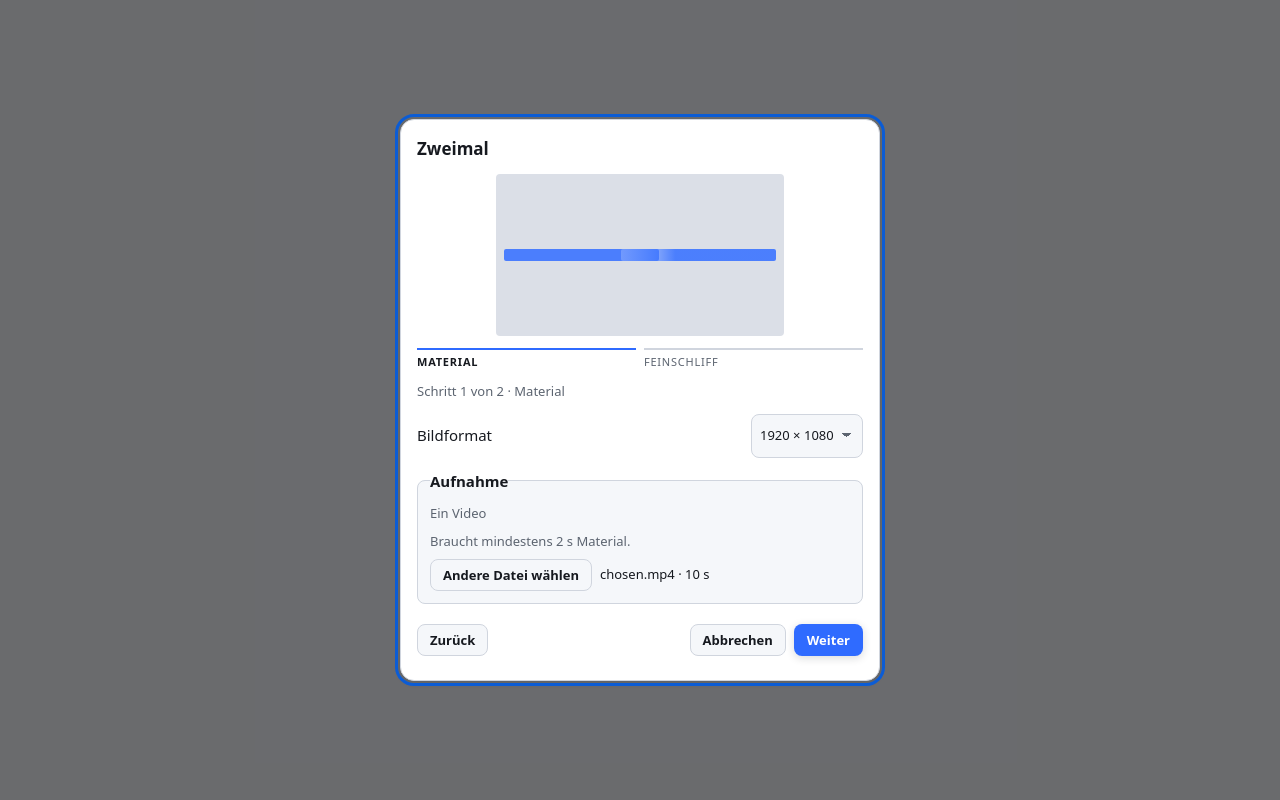
Scenario: TemplateWizard › asks one step at a time, in the template's own order
The image size is (1280, 800).
Expected: the message shows "Schritt 1 von 2", [417,382,504,400]
Expected: the text "Aufnahme" is shown, [430,470,508,492]
Click the button "Weiter" at (828, 640), box [794,624,863,656]
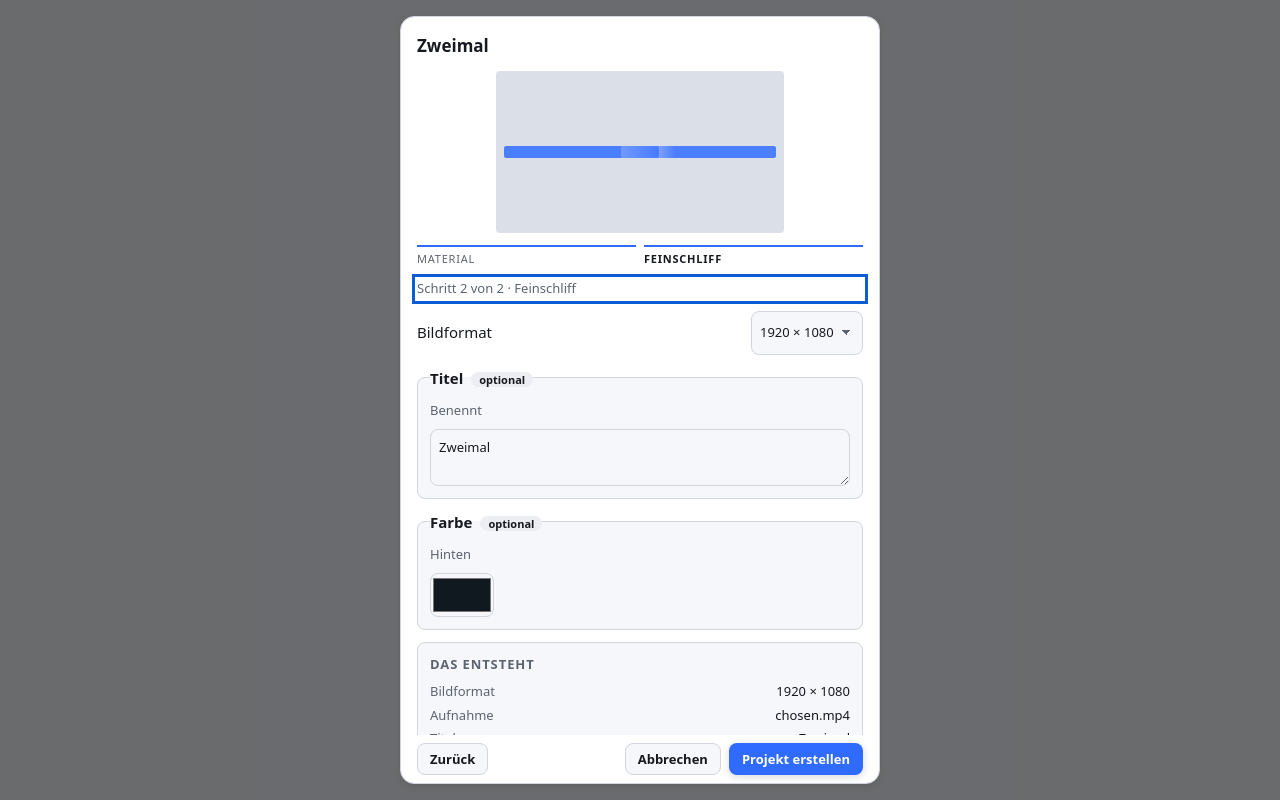
Now the message shows "Schritt 2 von 2", box [417,279,504,297]
